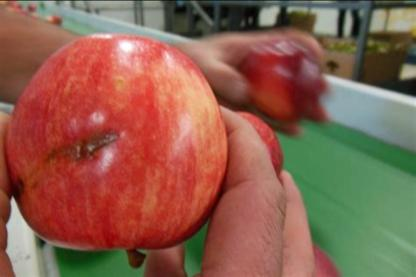defect: (8, 118, 130, 210)
